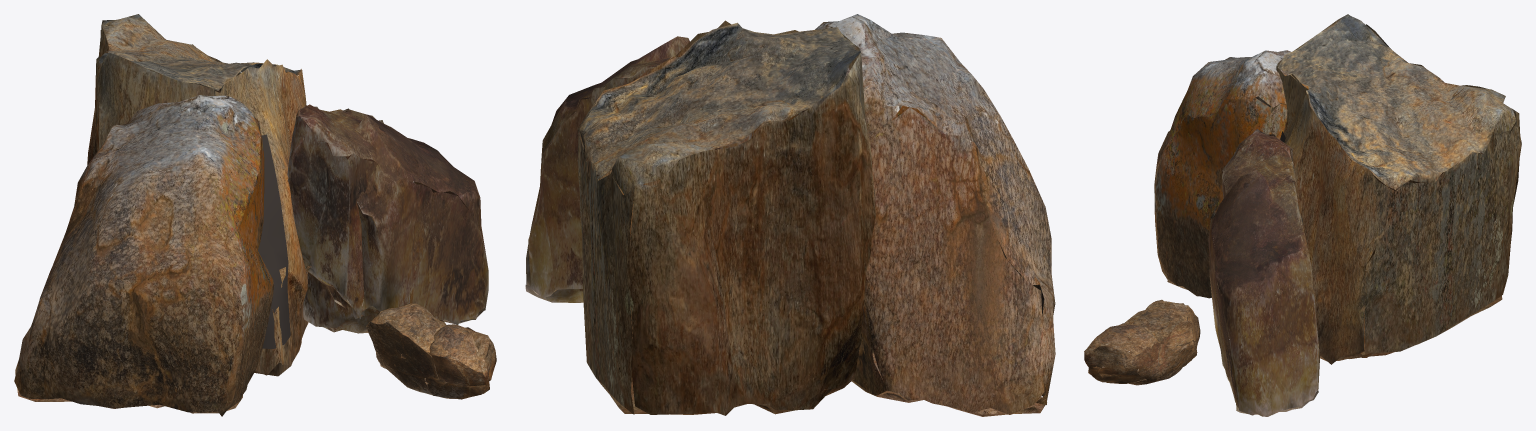
Rendered from spring_rock.glb.
3 renders of one model, left to right at view 1: azimuth 30°, elevation 25°; view 2: azimuth 150°, elevation 25°; view 3: azimuth 270°, elevation 25°, orthographic. The views are drawn at different scales.
Parts seen in each view (by area): view 1: RockLeft, RockRight, RockBack, RockFront, Crevice; view 2: RockBack, RockLeft, RockRight; view 3: RockBack, RockRight, RockLeft, RockFront.
Boxes of the visible parts, x1=… form: RockLeft: x1=14, y1=95, x2=274, y2=416; RockRight: x1=287, y1=104, x2=488, y2=333; RockBack: x1=87, y1=14, x2=309, y2=376; RockFront: x1=366, y1=303, x2=496, y2=399; Crevice: x1=254, y1=134, x2=290, y2=348; RockBack: x1=577, y1=20, x2=876, y2=415; RockLeft: x1=788, y1=14, x2=1055, y2=416; RockRight: x1=525, y1=36, x2=753, y2=302; RockBack: x1=1267, y1=14, x2=1521, y2=364; RockRight: x1=1208, y1=129, x2=1319, y2=416; RockLeft: x1=1154, y1=50, x2=1351, y2=298; RockFront: x1=1084, y1=299, x2=1200, y2=385.
Size of the model in its own units: 3.66 by 2.43 by 3.51.
5 materials, 4 textured.
